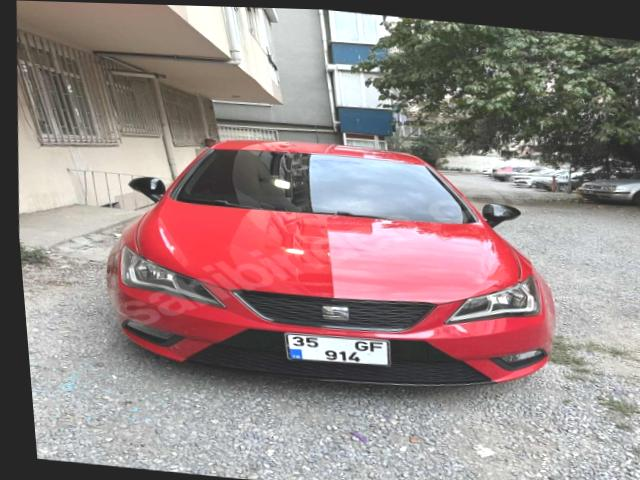plaka: (286, 332, 389, 365)
